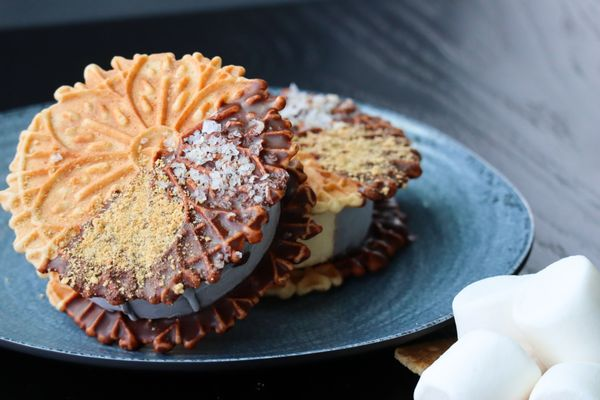curry: (10, 0, 600, 391)
sushi: (1, 50, 422, 322)
